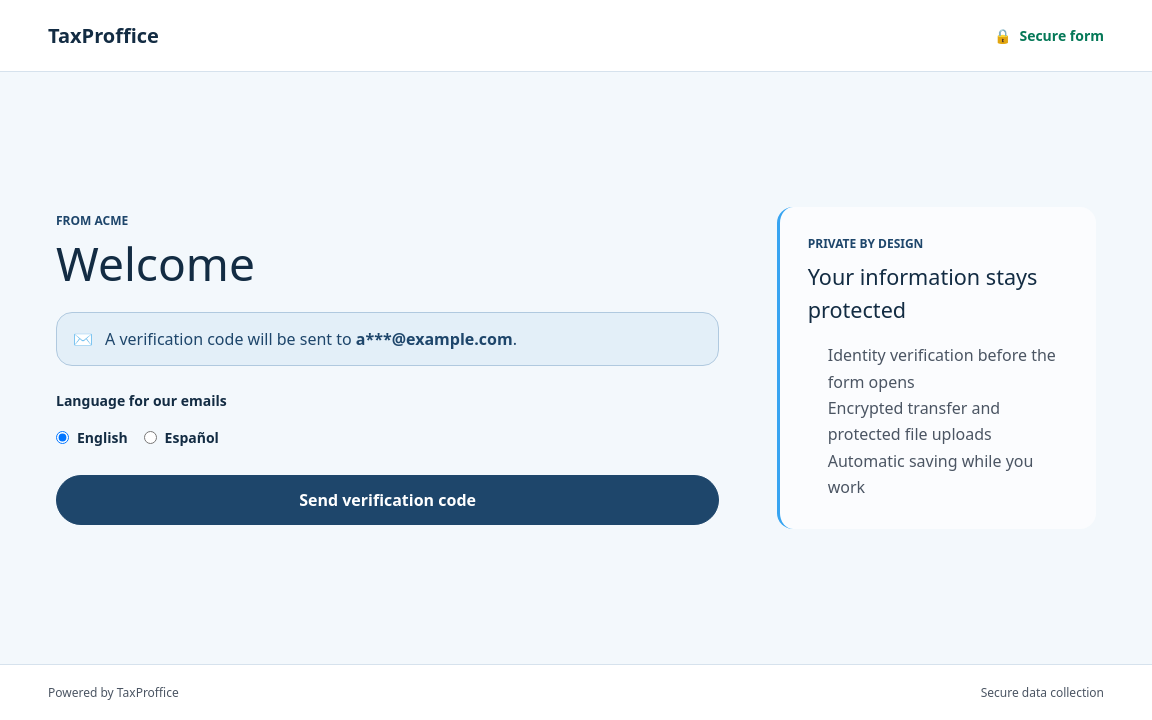
Test: PublicFormPageComponent › shows the code limit from the challenge response after requesting a code
The image size is (1152, 720).
Click the button "Send verification code" at (388, 500), box left=56, top=475, right=719, bottom=525
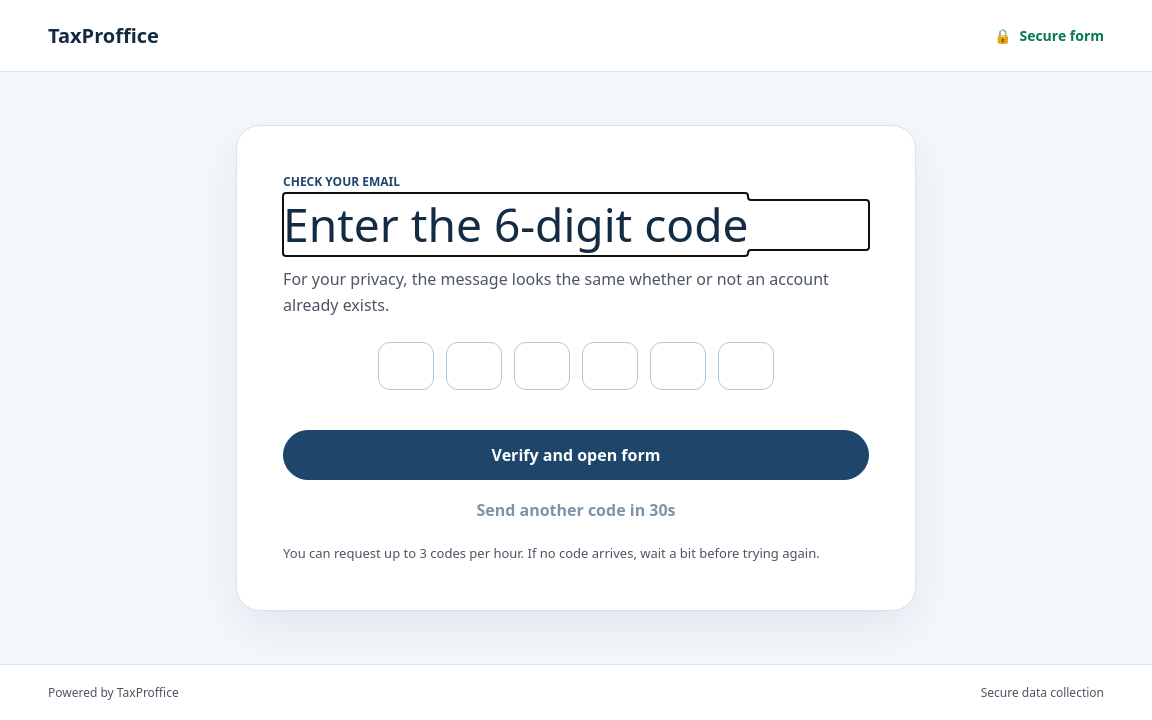
Expected: the text with test id "code-limit-hint" shows "You can request up to 3 codes per hour.", left=283, top=544, right=820, bottom=562
